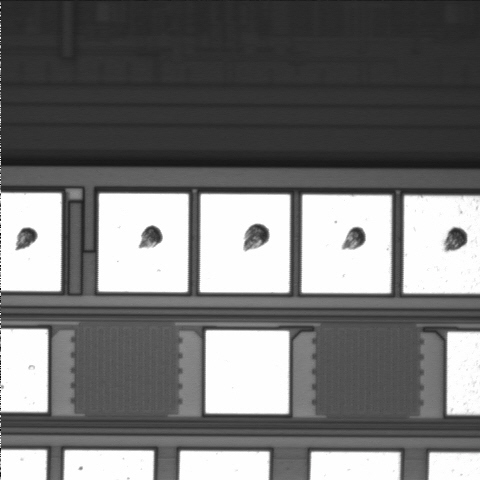pad: (200, 194, 290, 293), (98, 194, 188, 292), (302, 195, 392, 293), (206, 330, 289, 414)
